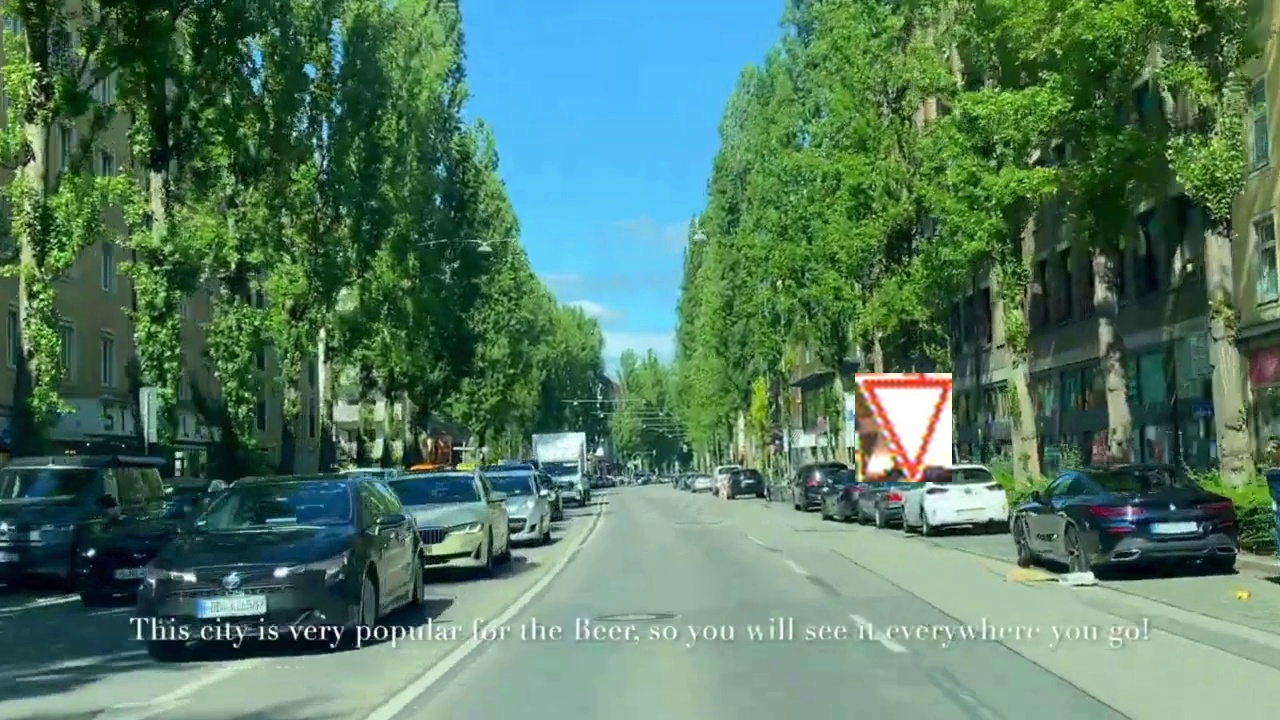Yield: (855, 373, 952, 482)
